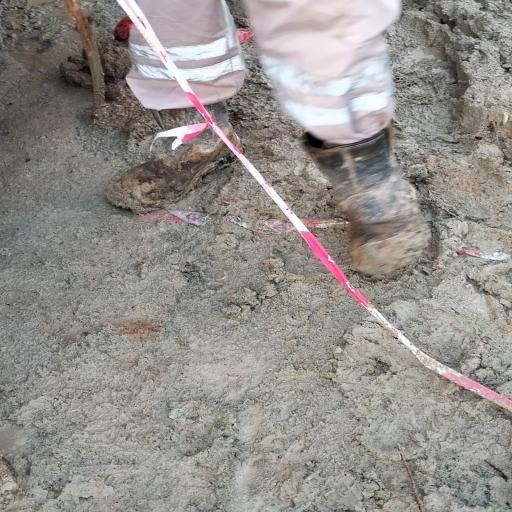safety_shoe: (295, 146, 436, 272), (100, 108, 257, 208)
